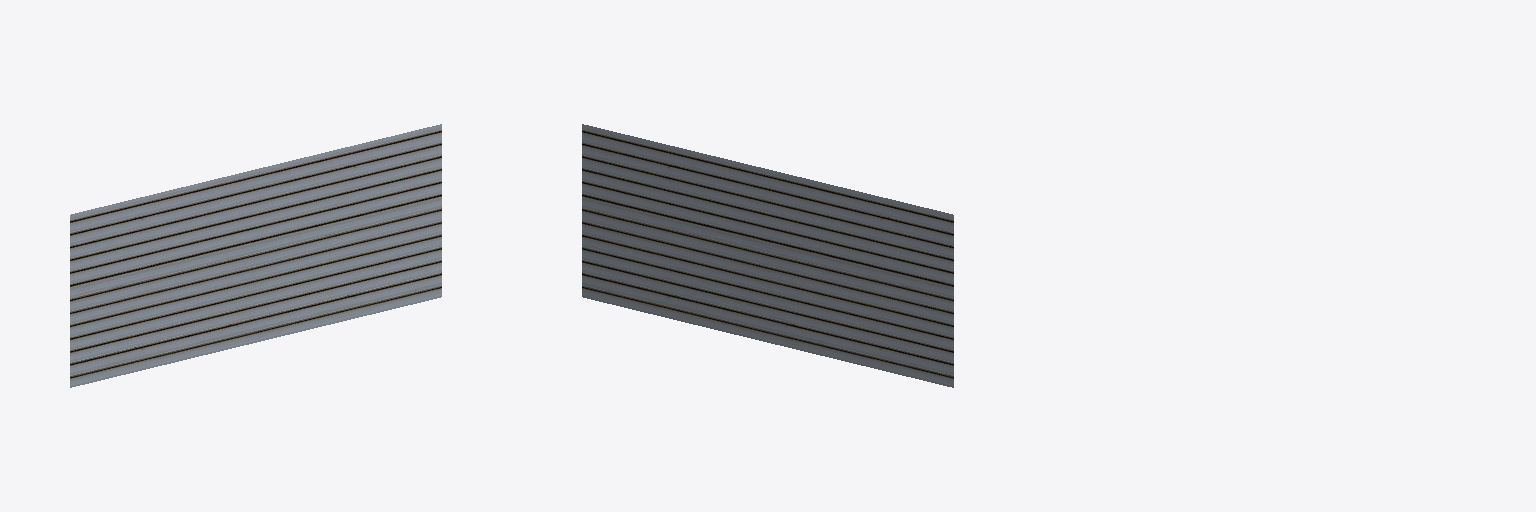
3 renders of one model, left to right at view 1: azimuth 30°, elevation 25°; view 2: azimuth 150°, elevation 25°; view 3: azimuth 270°, elevation 25°, orthographic.
Parts seen in each view (by area): view 1: STC1250_2_juanmen001; view 2: STC1250_2_juanmen001; view 3: none.
Boxes of the visible parts, <box> form: STC1250_2_juanmen001: <box>70,124,441,387</box>; STC1250_2_juanmen001: <box>582,124,953,387</box>.
Size of the model in its own units: 5400 by 2400 by 1.11.
Materials: 1 (1 with a texture image).